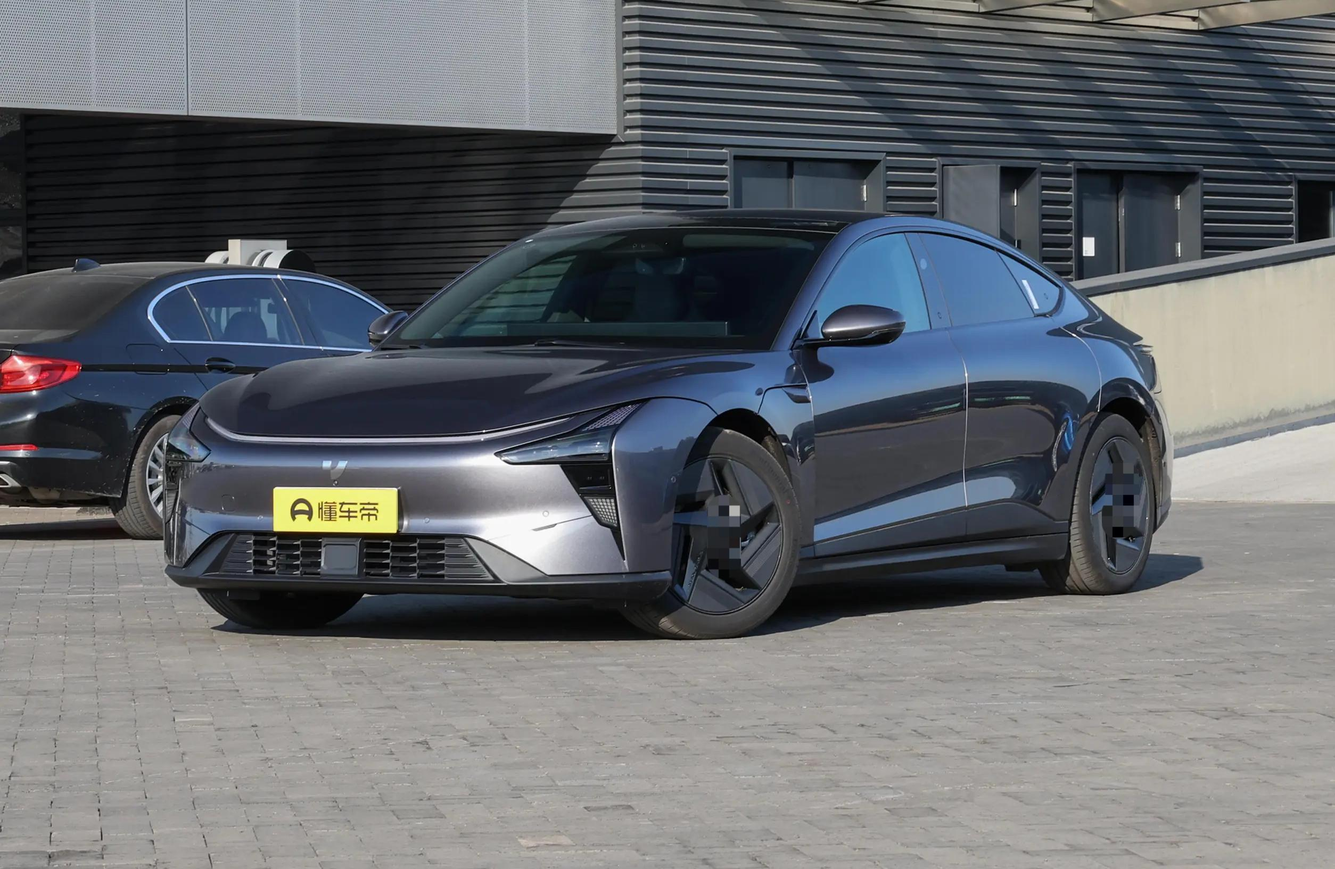JIYUE: (322, 460, 348, 481)
